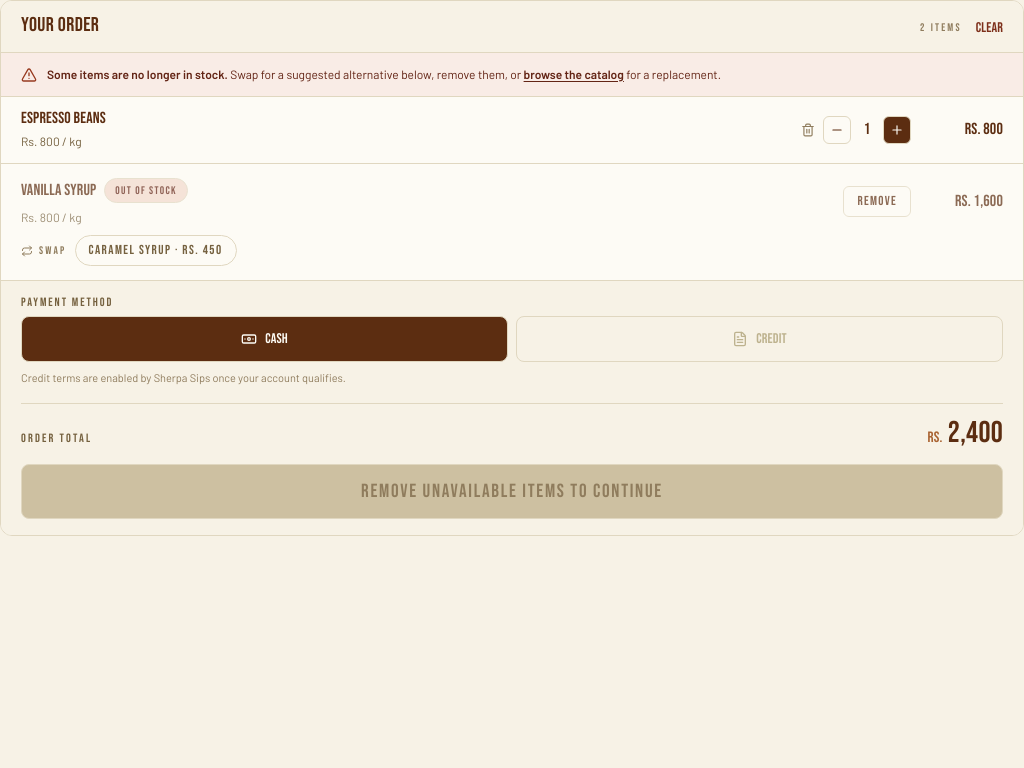
it: CartSection › swapping to a substitute removes the out-of-stock item, adds the replacement, and re-enables Place Order
Click the button "Caramel Syrup · Rs. 450" at (156, 250), box [74,235,236,266]
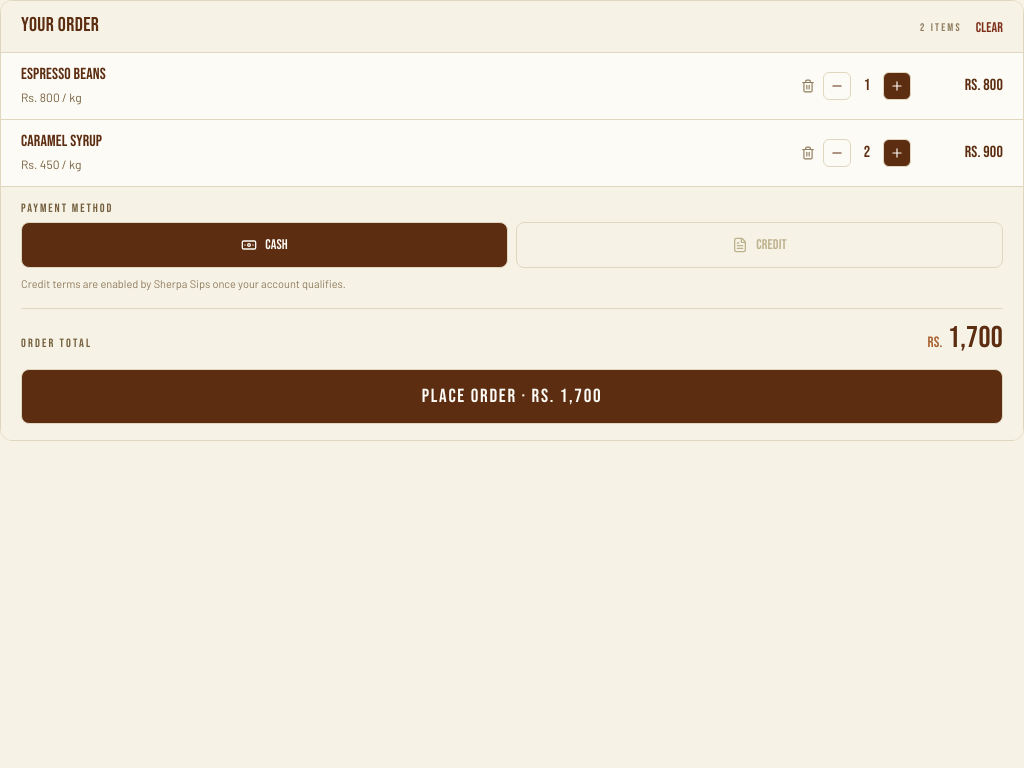
Expected: the text "Vanilla Syrup" is gone
Expected: the text "Caramel Syrup" is shown, [21,134,102,150]
Expected: the button "Place Order · Rs. 1,700" is enabled, [21,369,1003,424]
